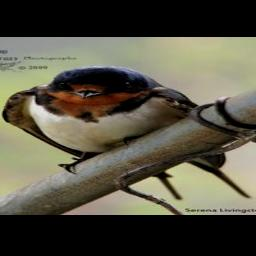Swallow: (1, 65, 252, 199)
